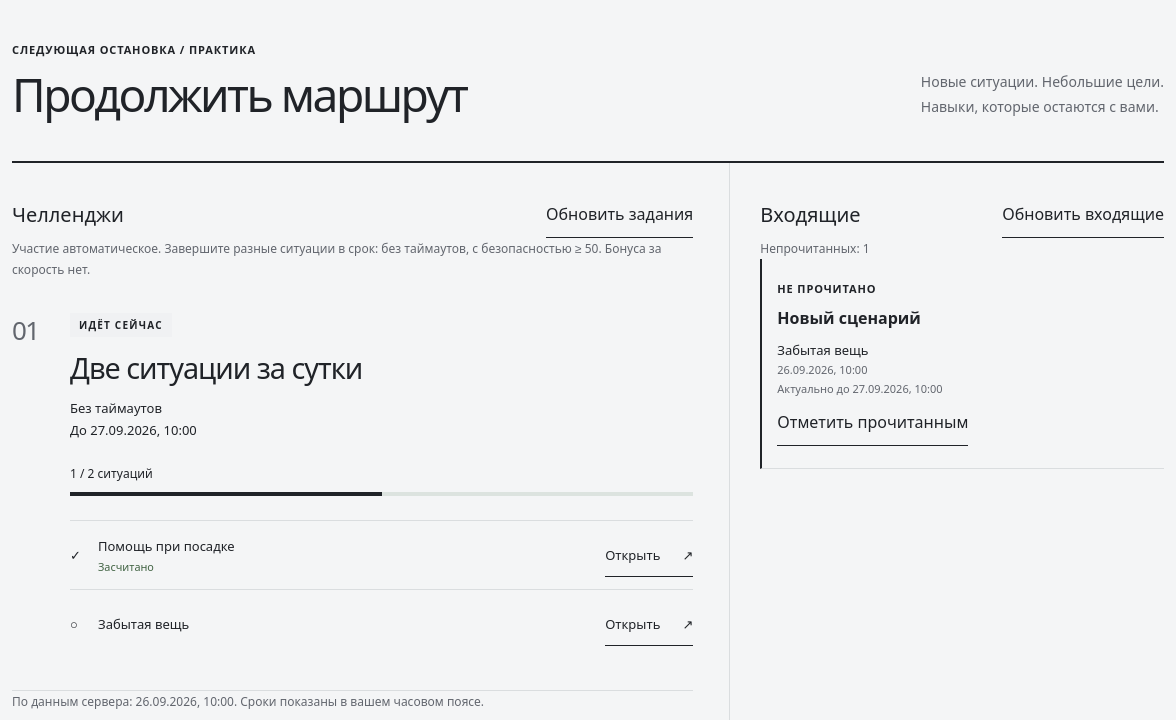
Test: retention › keeps failed mutations retryable without falsely marking read
What coordinates should you click on to do the following:
click the button "Отметить прочитанным"
I would click on:
 (873, 422)
Its box is [777,399,968,446].
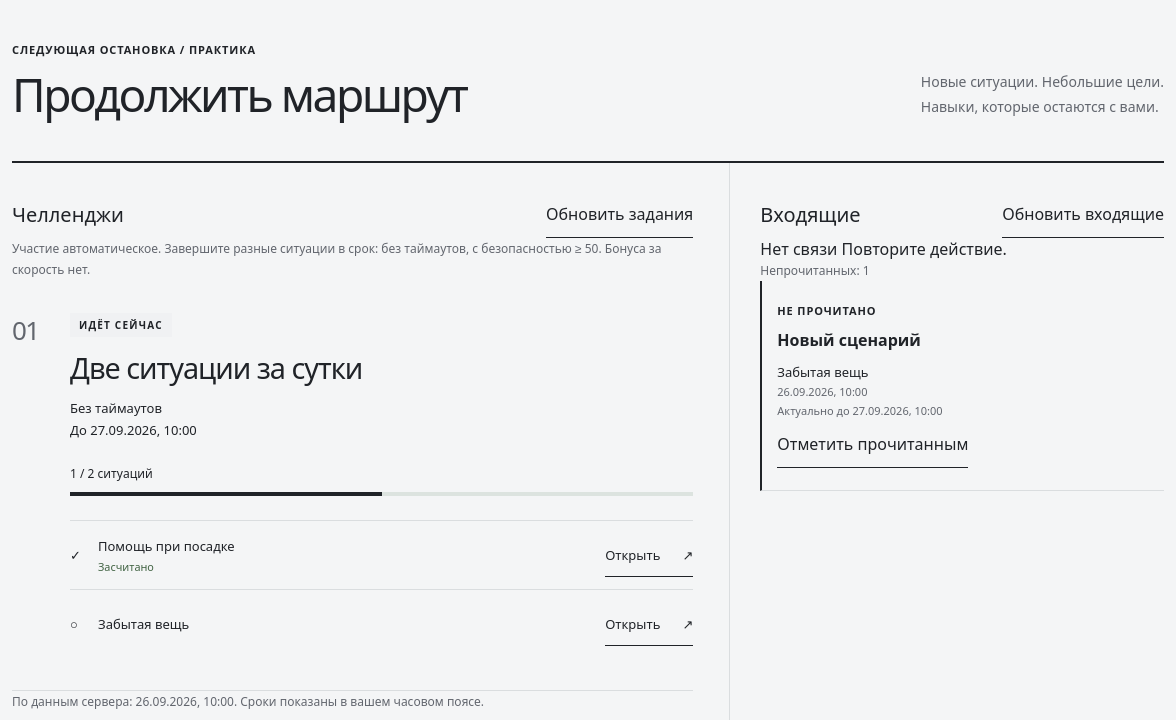
Expected: the button "Отметить прочитанным" is enabled, [777,421,968,468]
Expected: the message shows "Нет связи", [760,238,837,260]
